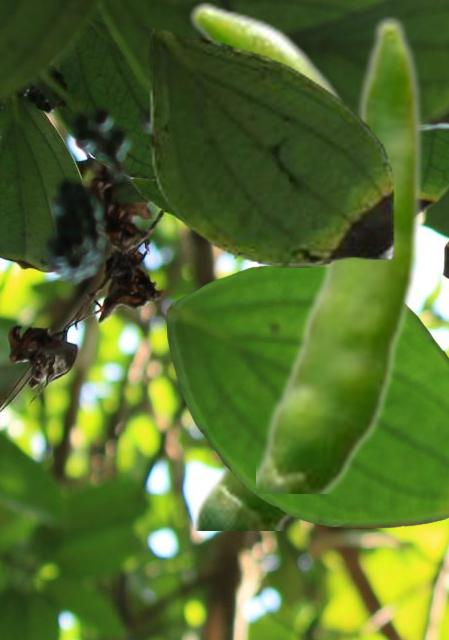green_chili: (187, 0, 349, 529), (256, 14, 424, 492)
